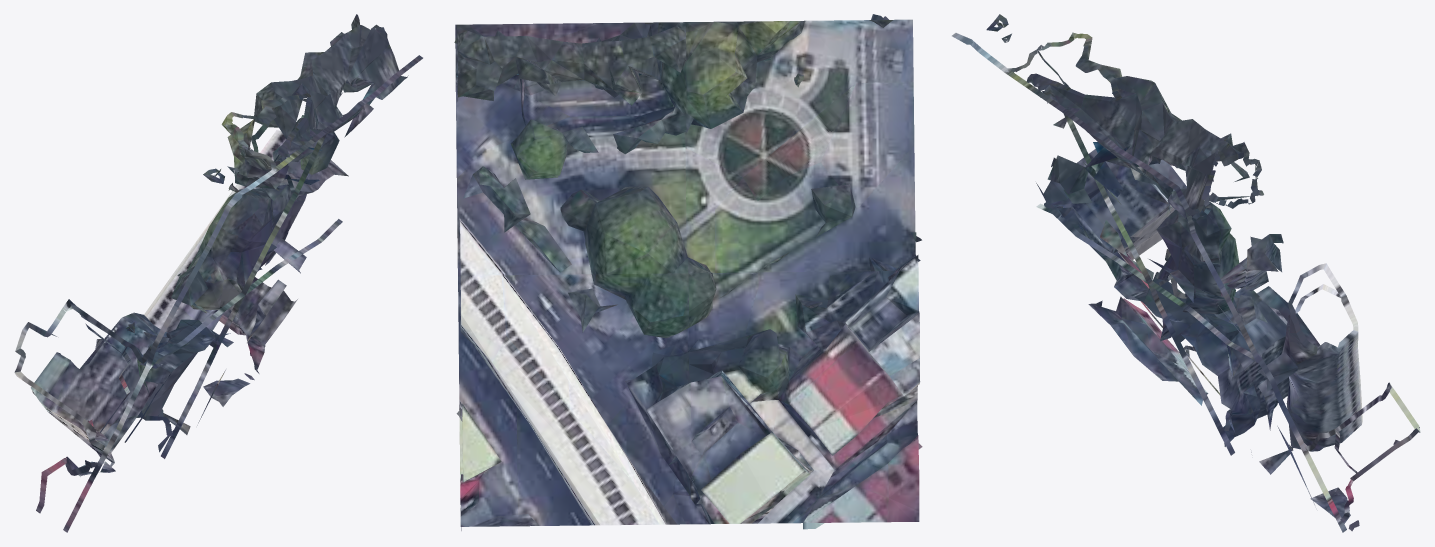
The picture shows the model from 3 angles, left to right: view 1: azimuth 30°, elevation 25°; view 2: azimuth 150°, elevation 25°; view 3: azimuth 270°, elevation 25°; orthographic projection. The views are drawn at different scales.
Bounding box in the file's own units: 81.35 × 75.14 × 76.05.
1 material, 1 textured.
